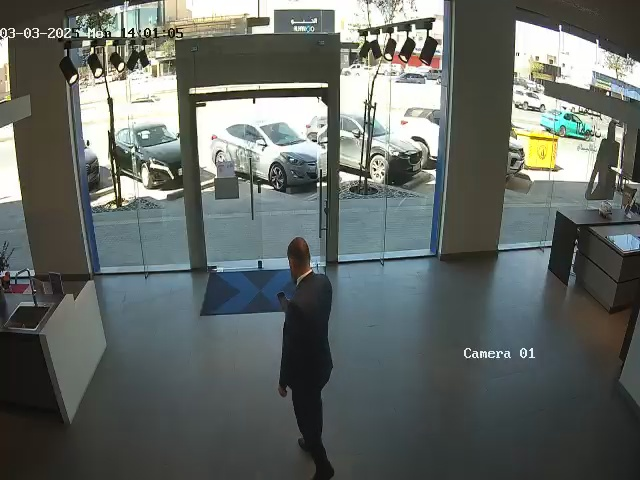employee: (276, 236, 336, 480)
other: (578, 98, 630, 221)
